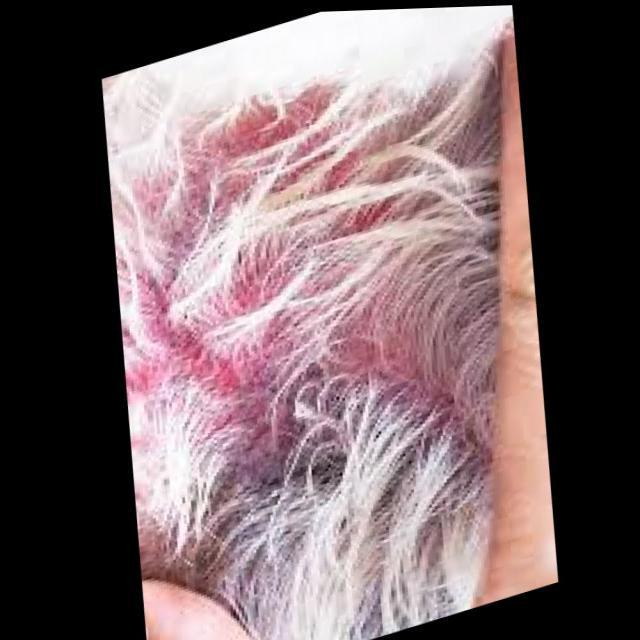allergic dermatitis: (125, 103, 497, 515)
